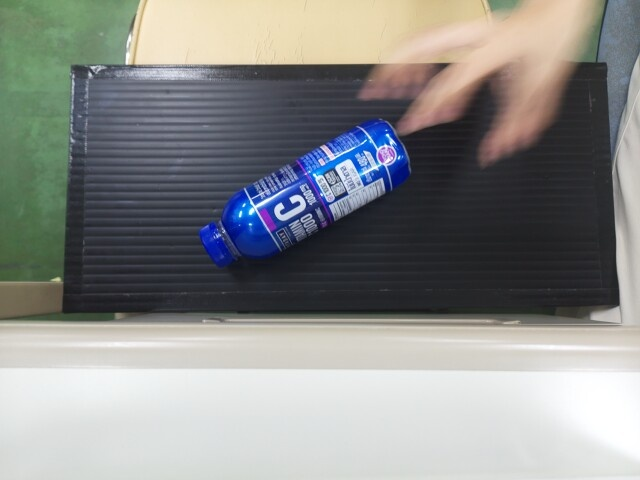plastic_bottle: (193, 127, 410, 265)
